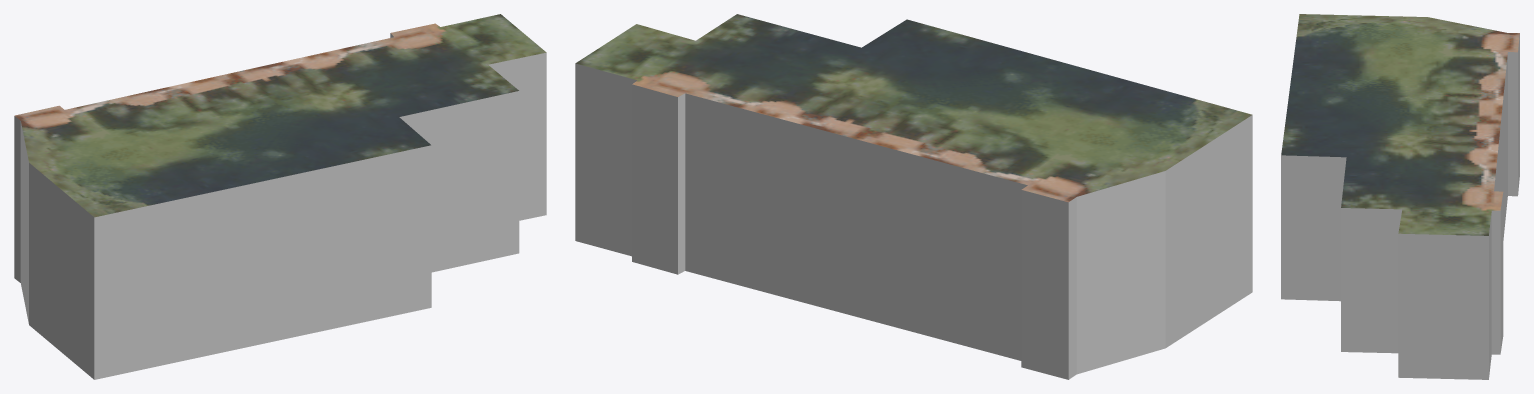
Rendered from DEBW_0010007Tvky.gltf.
3 views of the same model, side by side, from view 1: azimuth 30°, elevation 25°; view 2: azimuth 150°, elevation 25°; view 3: azimuth 270°, elevation 25° (orthographic). The views are drawn at different scales.
Parts seen in each view (by area): view 1: Z_UP; view 2: Z_UP; view 3: Z_UP.
Part boxes in pixels (x1,y1,x2,y2): Z_UP: (14,14,546,379); Z_UP: (575,14,1252,379); Z_UP: (1281,14,1519,379).
Size of the model in its own units: 43.59 by 13.19 by 19.81.
Materials: 2 (1 with a texture image).
